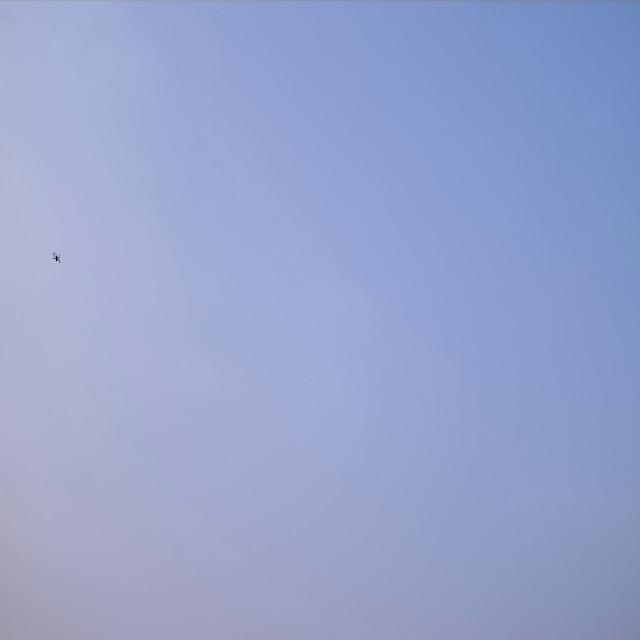UAV: (50, 250, 63, 264)
